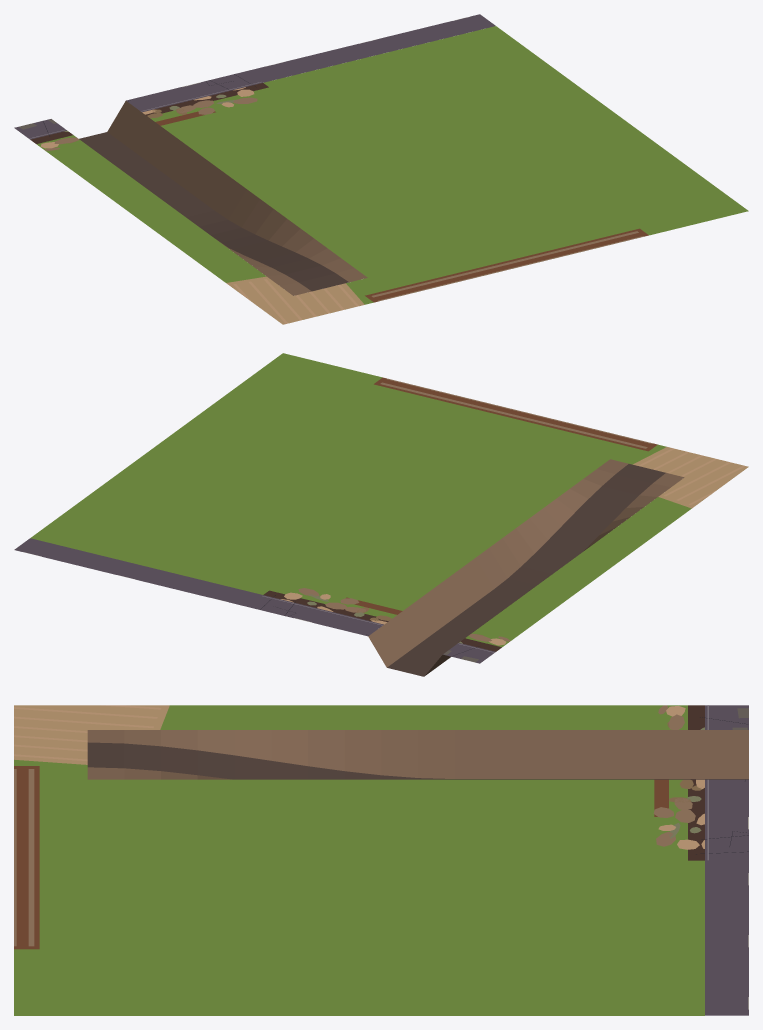
The model's file is crossing-11-4.glb.
3 views of the same model, one above another, from view 1: azimuth 30°, elevation 25°; view 2: azimuth 150°, elevation 25°; view 3: azimuth 270°, elevation 25° (orthographic). The views are drawn at different scales.
Visible parts, largest first — view 1: crossing-11-4; view 2: crossing-11-4; view 3: crossing-11-4.
Part boxes in pixels (x1=…): crossing-11-4: x1=14, y1=14, x2=748, y2=324; crossing-11-4: x1=14, y1=353, x2=748, y2=676; crossing-11-4: x1=14, y1=705, x2=748, y2=1015.
Size of the model in its own units: 100 by 5.51 by 100.
